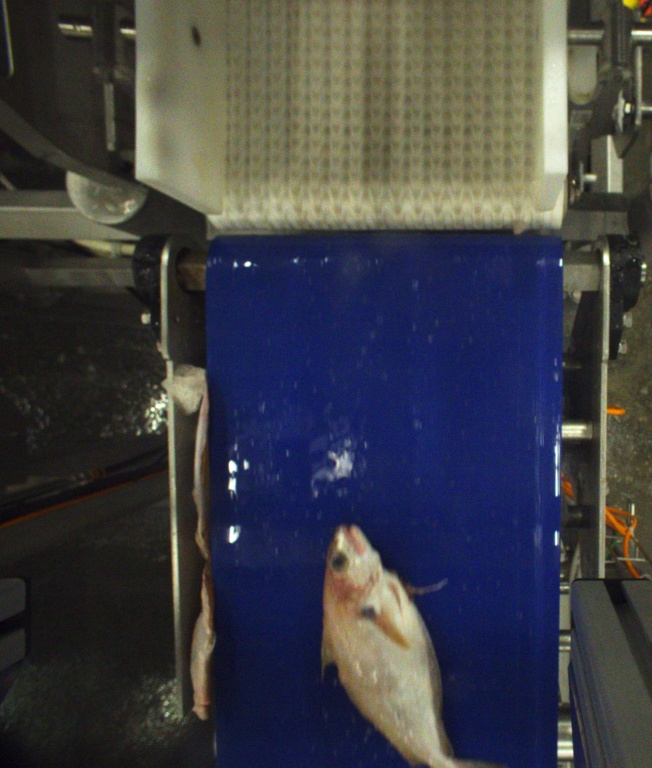BIB: (320, 523, 482, 768)
